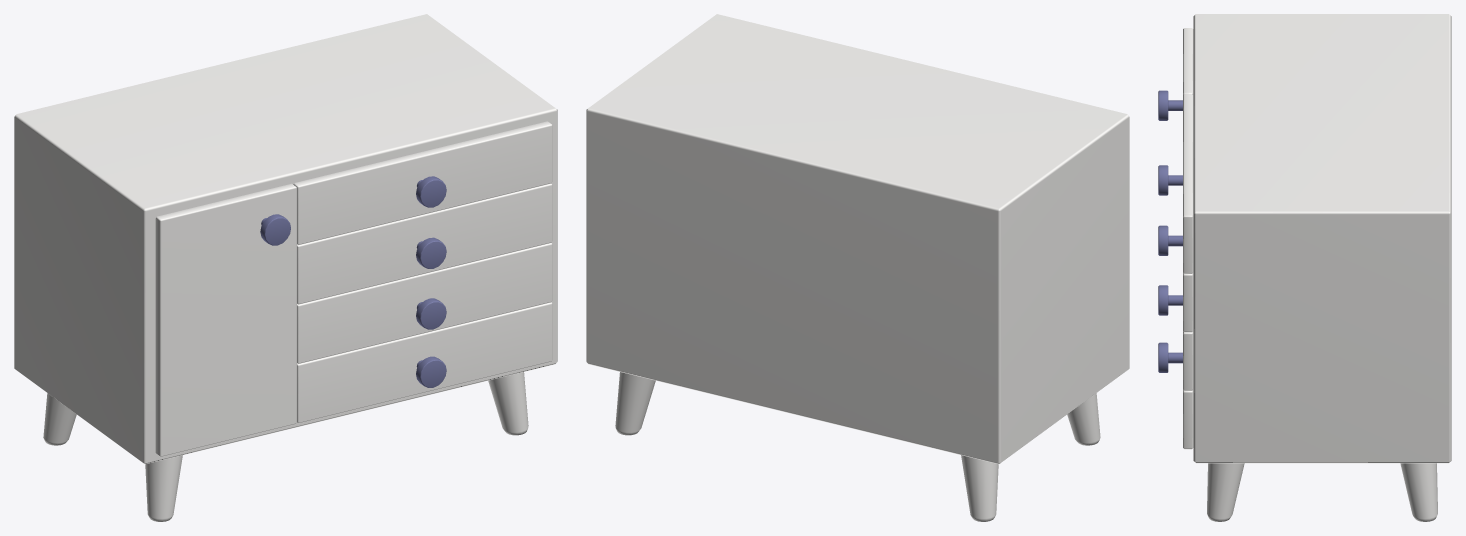
Rendered from Cabinet_10.glb.
3 views of the same model, side by side, from view 1: azimuth 30°, elevation 25°; view 2: azimuth 150°, elevation 25°; view 3: azimuth 270°, elevation 25° (orthographic).
Visible parts, largest first — view 1: Cabinet_10; view 2: Cabinet_10; view 3: Cabinet_10.
Boxes of the visible parts, <box> form: Cabinet_10: <box>14,14,557,521</box>; Cabinet_10: <box>586,14,1129,521</box>; Cabinet_10: <box>1158,14,1451,521</box>.
Bounding box in the file's own units: 1.54 × 1.16 × 0.9598.
Materials: 1 (1 with a texture image).
